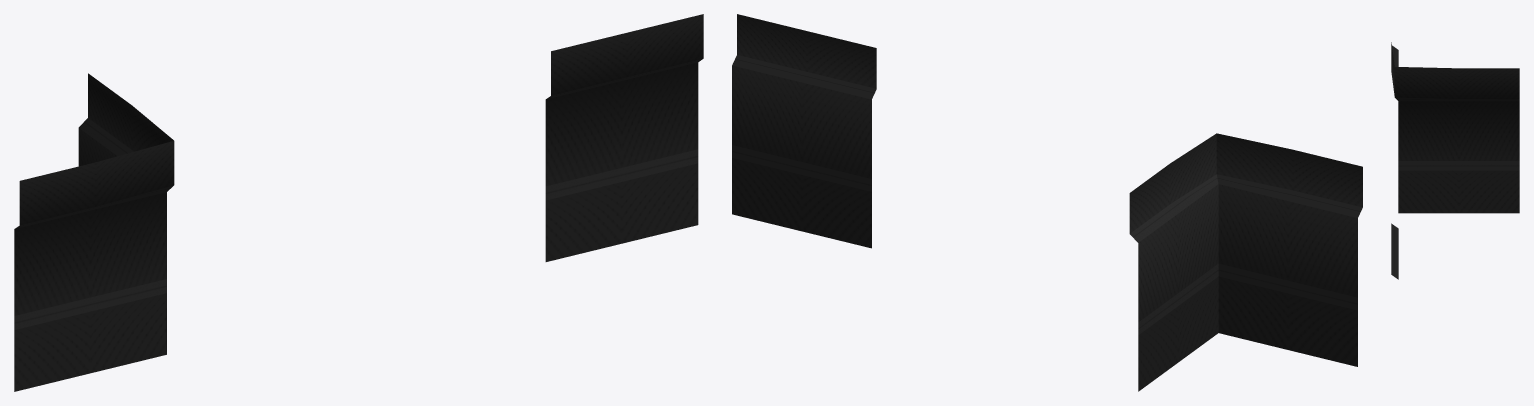
Rendered from WallVariation5.fbx.
3 renders of one model, left to right at view 1: azimuth 30°, elevation 25°; view 2: azimuth 150°, elevation 25°; view 3: azimuth 270°, elevation 25°, orthographic. The views are drawn at different scales.
Visible parts, largest first — view 1: WallVariation8, WallVariation9.001; view 2: WallVariation8, WallVariation9.001; view 3: WallVariation8, WallVariation9.001.
Part boxes in pixels (x1,y1,x2,y2): WallVariation8: (14, 73, 174, 391); WallVariation9.001: (545, 14, 703, 261); WallVariation8: (1129, 133, 1362, 391); WallVariation9.001: (732, 14, 876, 248); WallVariation8: (1391, 42, 1519, 213); WallVariation9.001: (1391, 223, 1398, 279).
Bounding box in the file's own units: 901 × 271 × 213.
